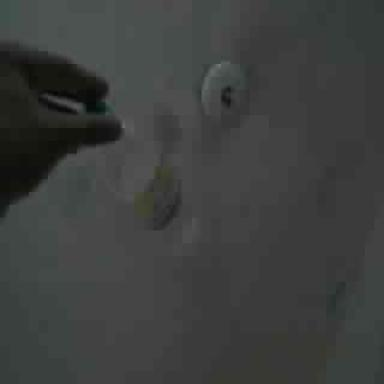bottle: (82, 100, 212, 258)
